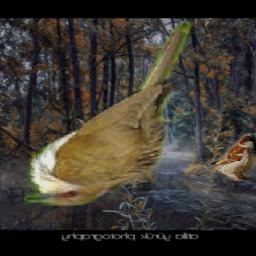Cuckoo: (23, 21, 193, 205)
Sparrow: (196, 134, 256, 182)
